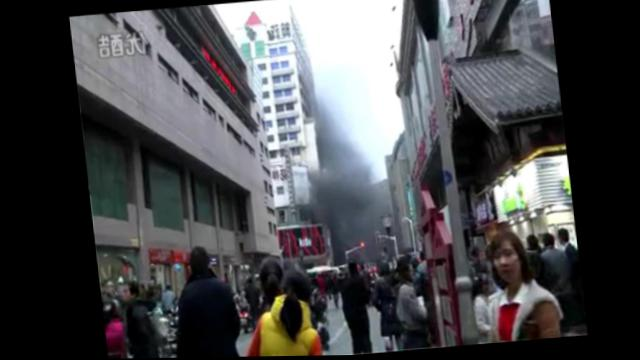smoke: (304, 176, 380, 227), (317, 141, 369, 179), (311, 101, 343, 144)
